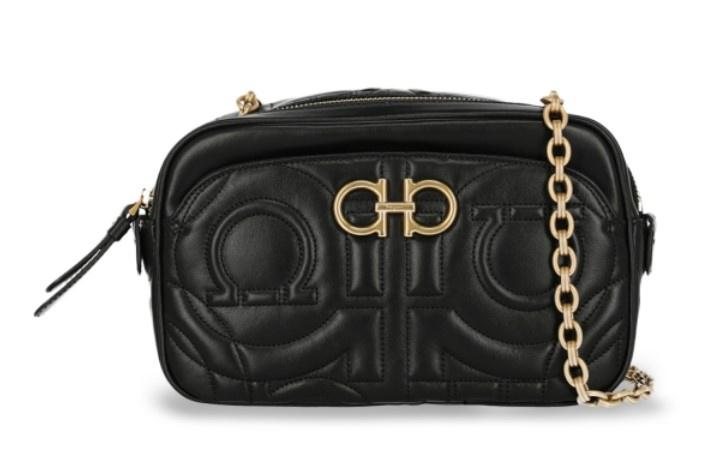FERRAGAMO: (323, 162, 467, 245)
